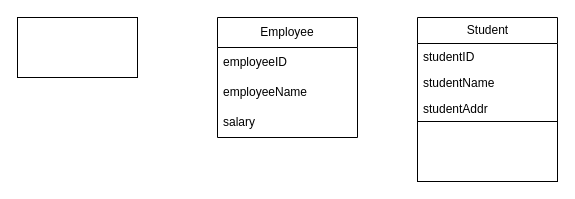
This 575x199 diagram has some shape labels left out. The shapes that lost their labels are listed below. From the top down, each one's centre as x and y in pixels, then its label:
At point 77,47: "Customer".
At point 487,151: "student() getStudentRec()".
